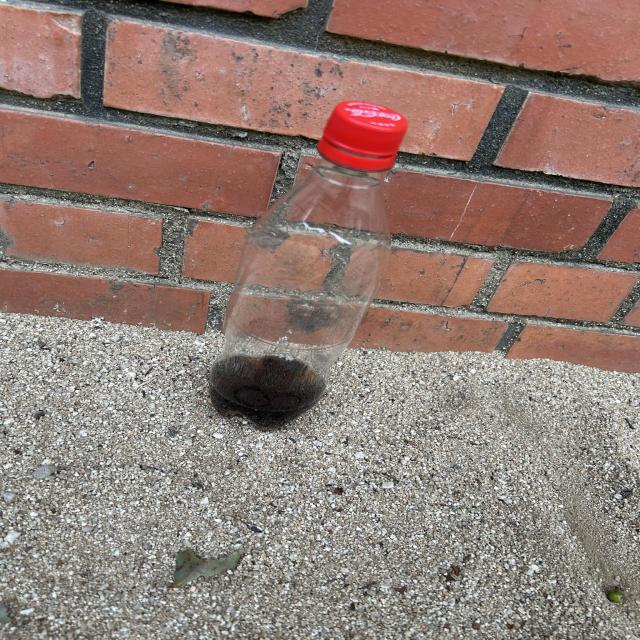low: (210, 100, 408, 426)
